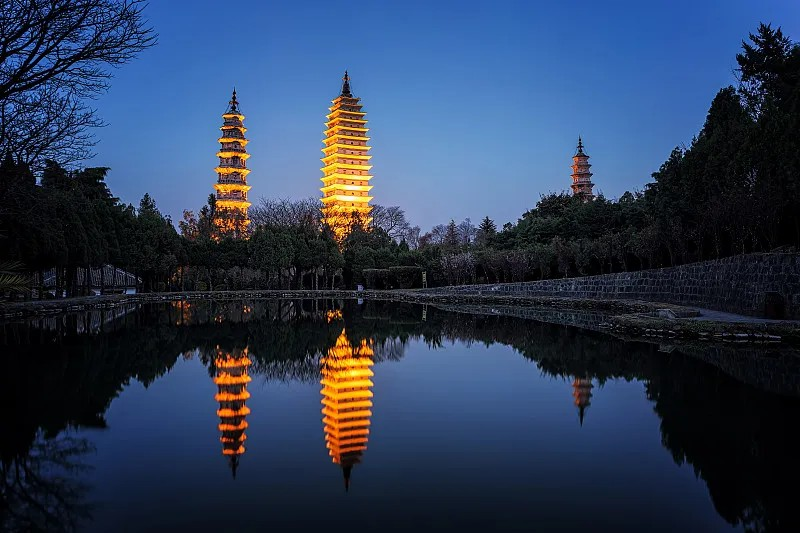ThreePagoda: (320, 69, 374, 235)
